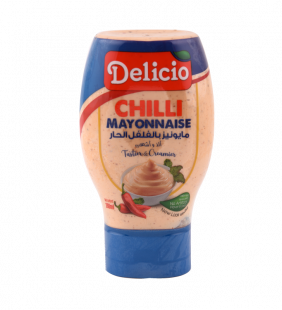DELICIO: (74, 24, 220, 284)
